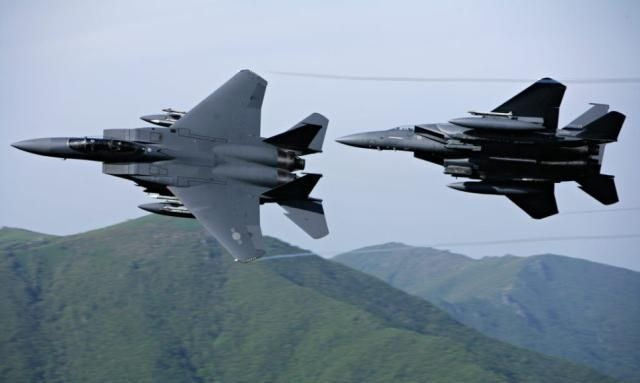airplane: (2, 72, 343, 265), (338, 78, 627, 221)
